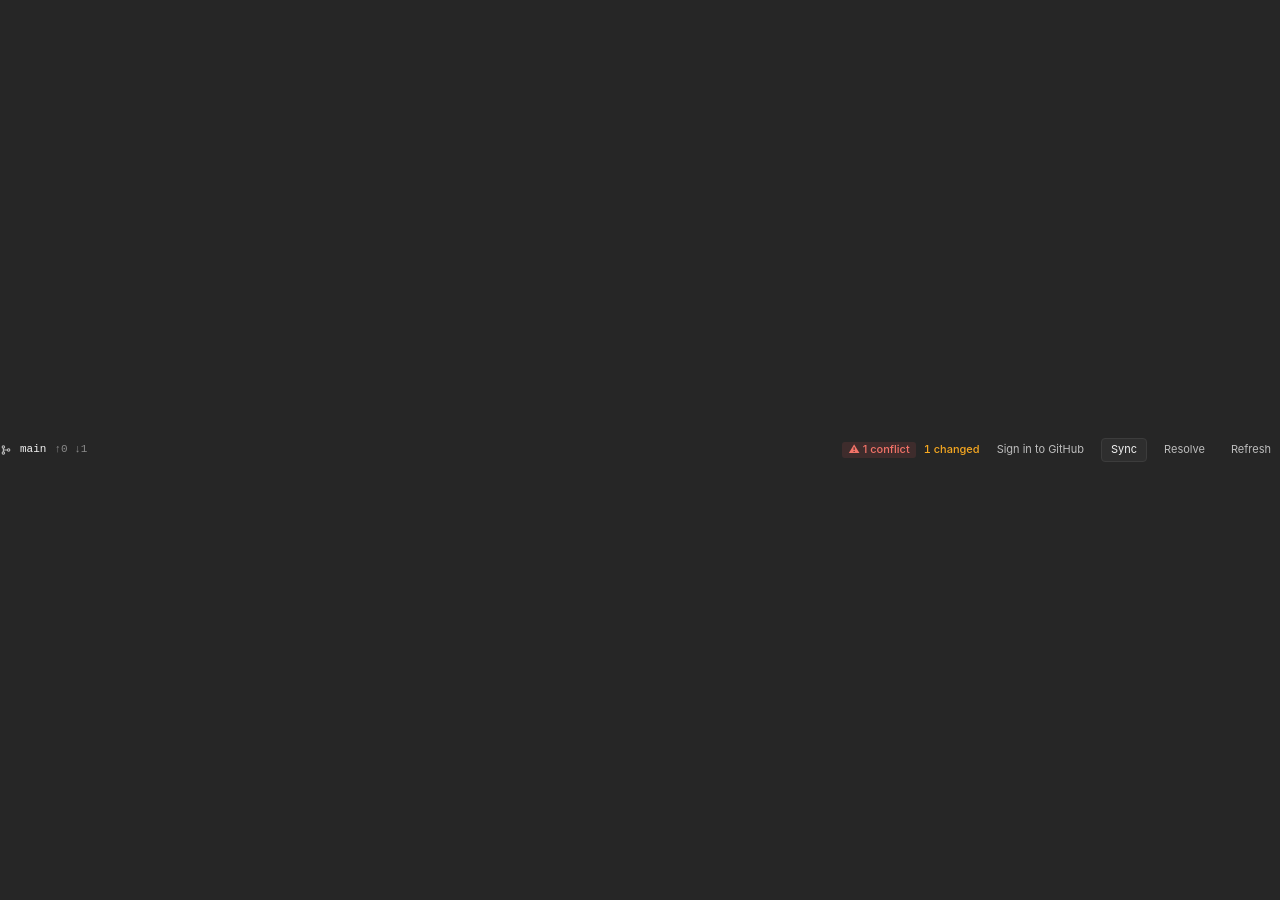
GitBar › opens Resolve from the bar when status reports config conflicts
expect the button "⚠ 1 conflict" is shown: met, box x1=842 y1=442 x2=916 y2=458
expect the button "Sync" is shown: met, box x1=1101 y1=438 x2=1147 y2=462
Click the button "Resolve": {"x": 1184, "y": 450} x1=1155 y1=437 x2=1214 y2=463
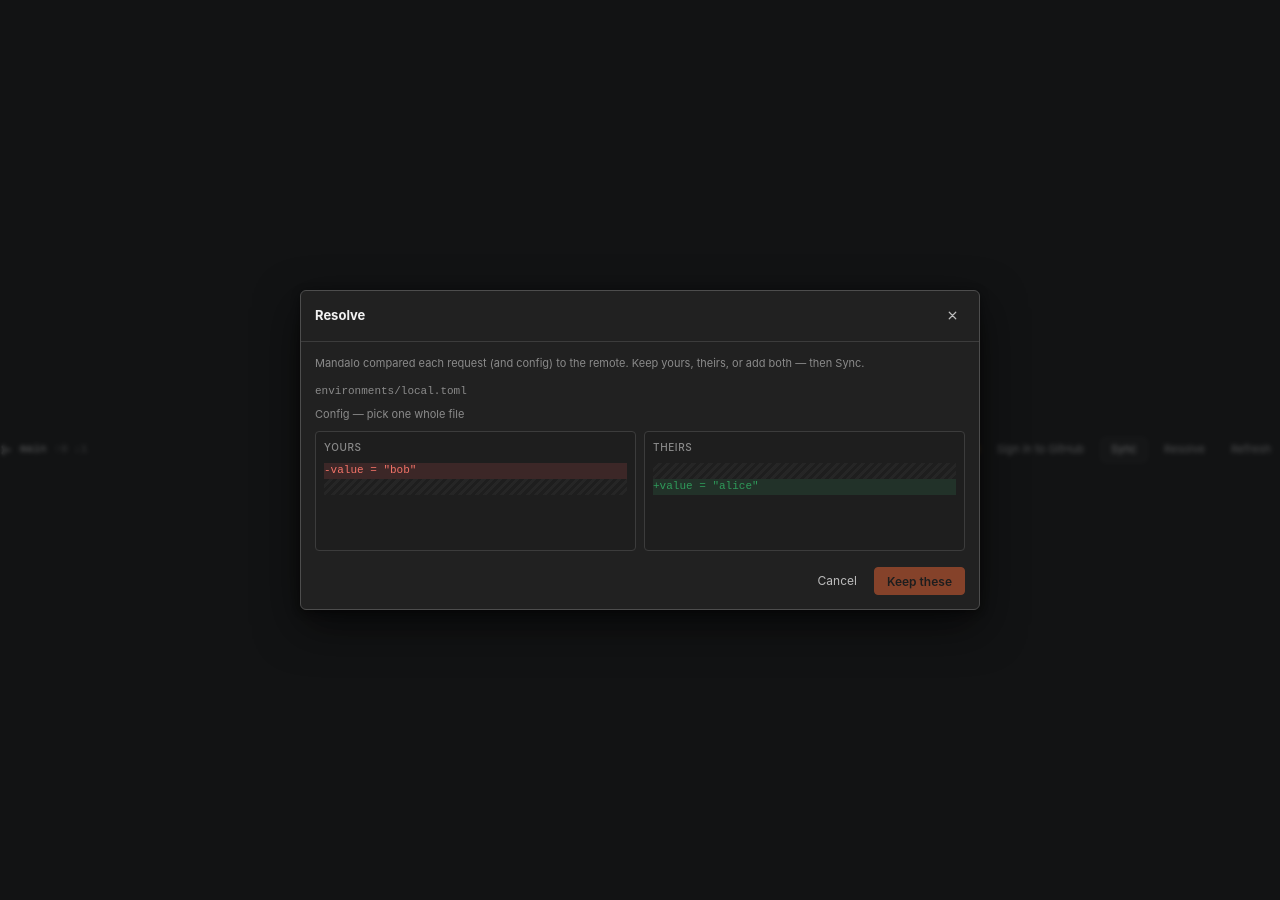
expect the text "-value = \"bob\"" is shown: met, box x1=324 y1=463 x2=627 y2=479
expect the text "+value = \"alice\"" is shown: met, box x1=653 y1=479 x2=956 y2=495
